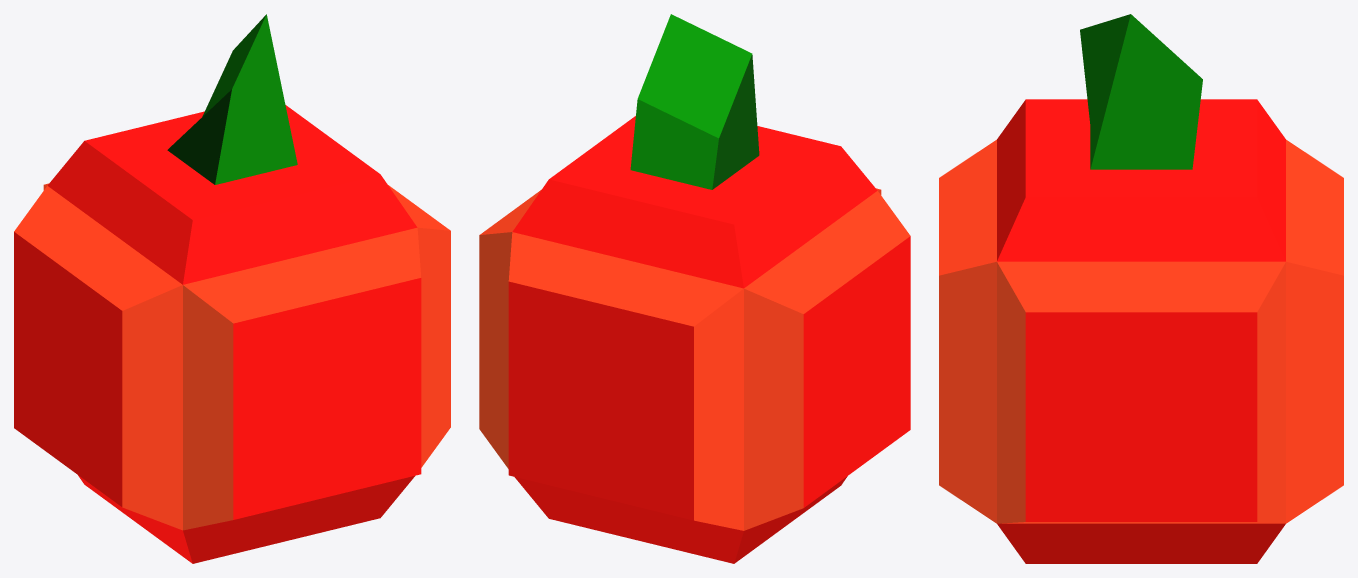
The model's file is AppleModel.fbx.
3 renders of one model, left to right at view 1: azimuth 30°, elevation 25°; view 2: azimuth 150°, elevation 25°; view 3: azimuth 270°, elevation 25°, orthographic. The views are drawn at different scales.
Visible parts, largest first — view 1: Apple; view 2: Apple; view 3: Apple.
Part boxes in pixels (x1,y1,x2,y2): Apple: [14, 14, 450, 563]; Apple: [479, 14, 910, 563]; Apple: [939, 14, 1343, 563].
Bounding box in the file's own units: 65.67 × 65.67 × 92.41.
